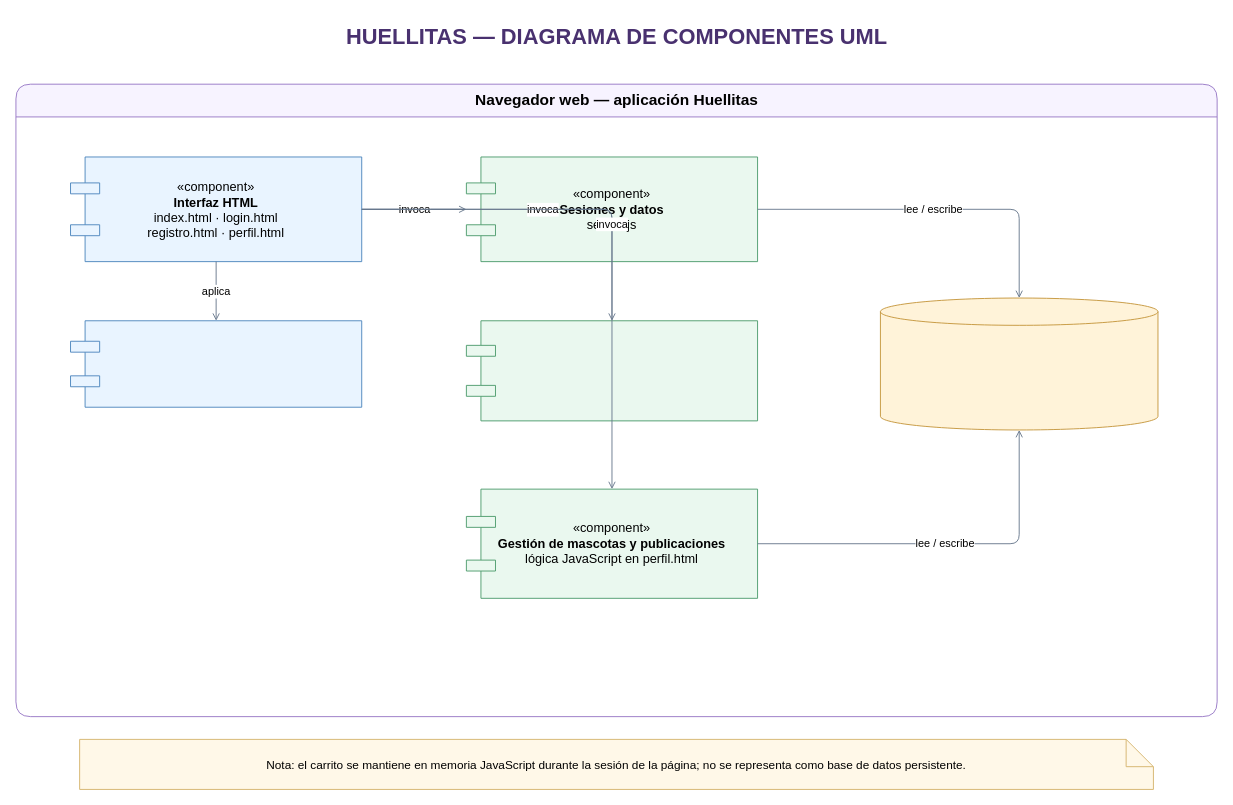
Image size: 1233x805. Some labels were removed from this diagram. Here are the shapes that lost their labels. From the top down, the box of each, then its label:
(70, 320, 362, 407): «component» Presentación styles.css · img/
(465, 320, 758, 421): «component» Catálogo y carrito script.js
(880, 297, 1158, 430): «datastore» localStorage Usuarios, mascotas, adopciones, perdidas y donaciones
